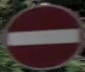No entry: (10, 7, 78, 59)
